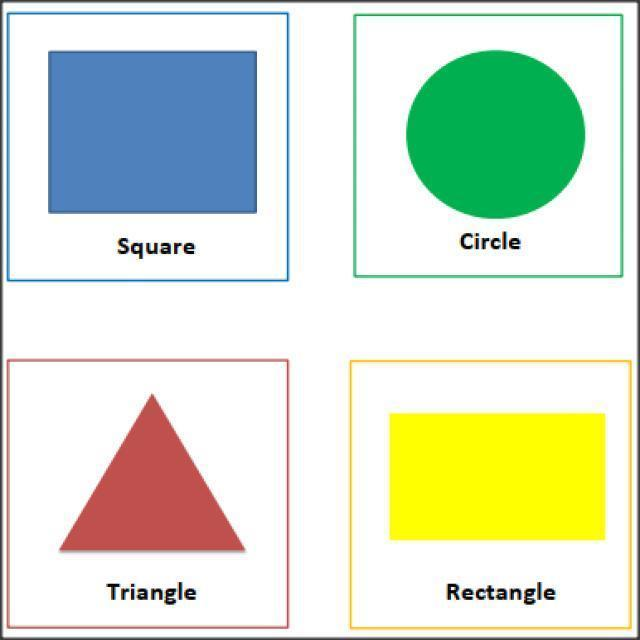circle: (393, 38, 603, 254)
square: (368, 366, 625, 602), (28, 41, 280, 268)
triangle: (23, 378, 270, 597)
